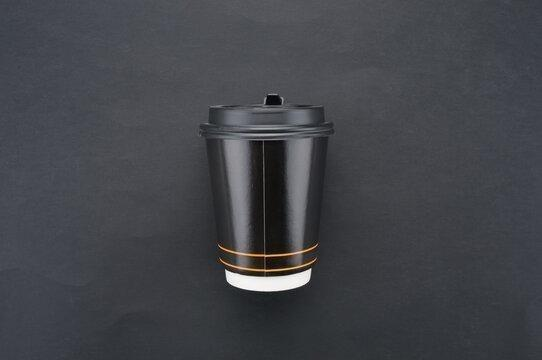cup-disposable: (197, 92, 337, 294)
